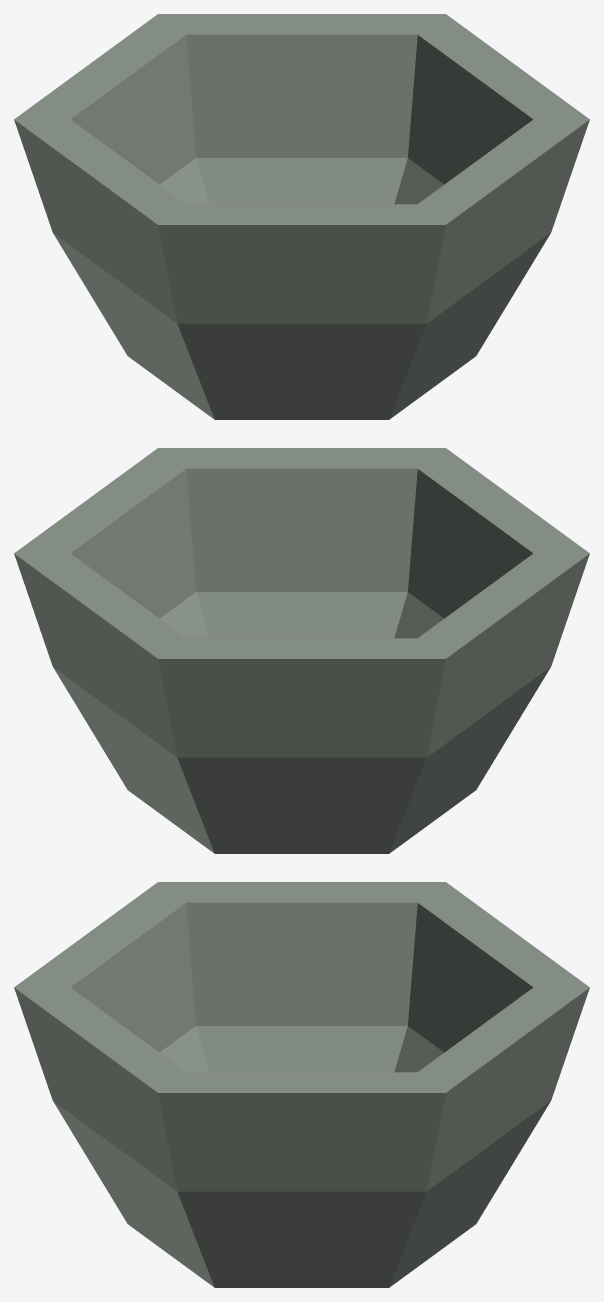
File: Mortar.fbx
The picture shows the model from 3 angles, top to bottom: view 1: azimuth 30°, elevation 25°; view 2: azimuth 150°, elevation 25°; view 3: azimuth 270°, elevation 25°; orthographic projection.
Parts seen in each view (by area): view 1: Mortar; view 2: Mortar; view 3: Mortar.
Part boxes in pixels (x1,y1,x2,y2): Mortar: (14, 14, 589, 419); Mortar: (14, 448, 589, 853); Mortar: (14, 882, 589, 1287).
Size of the model in its own units: 24.65 by 12.91 by 28.47.
